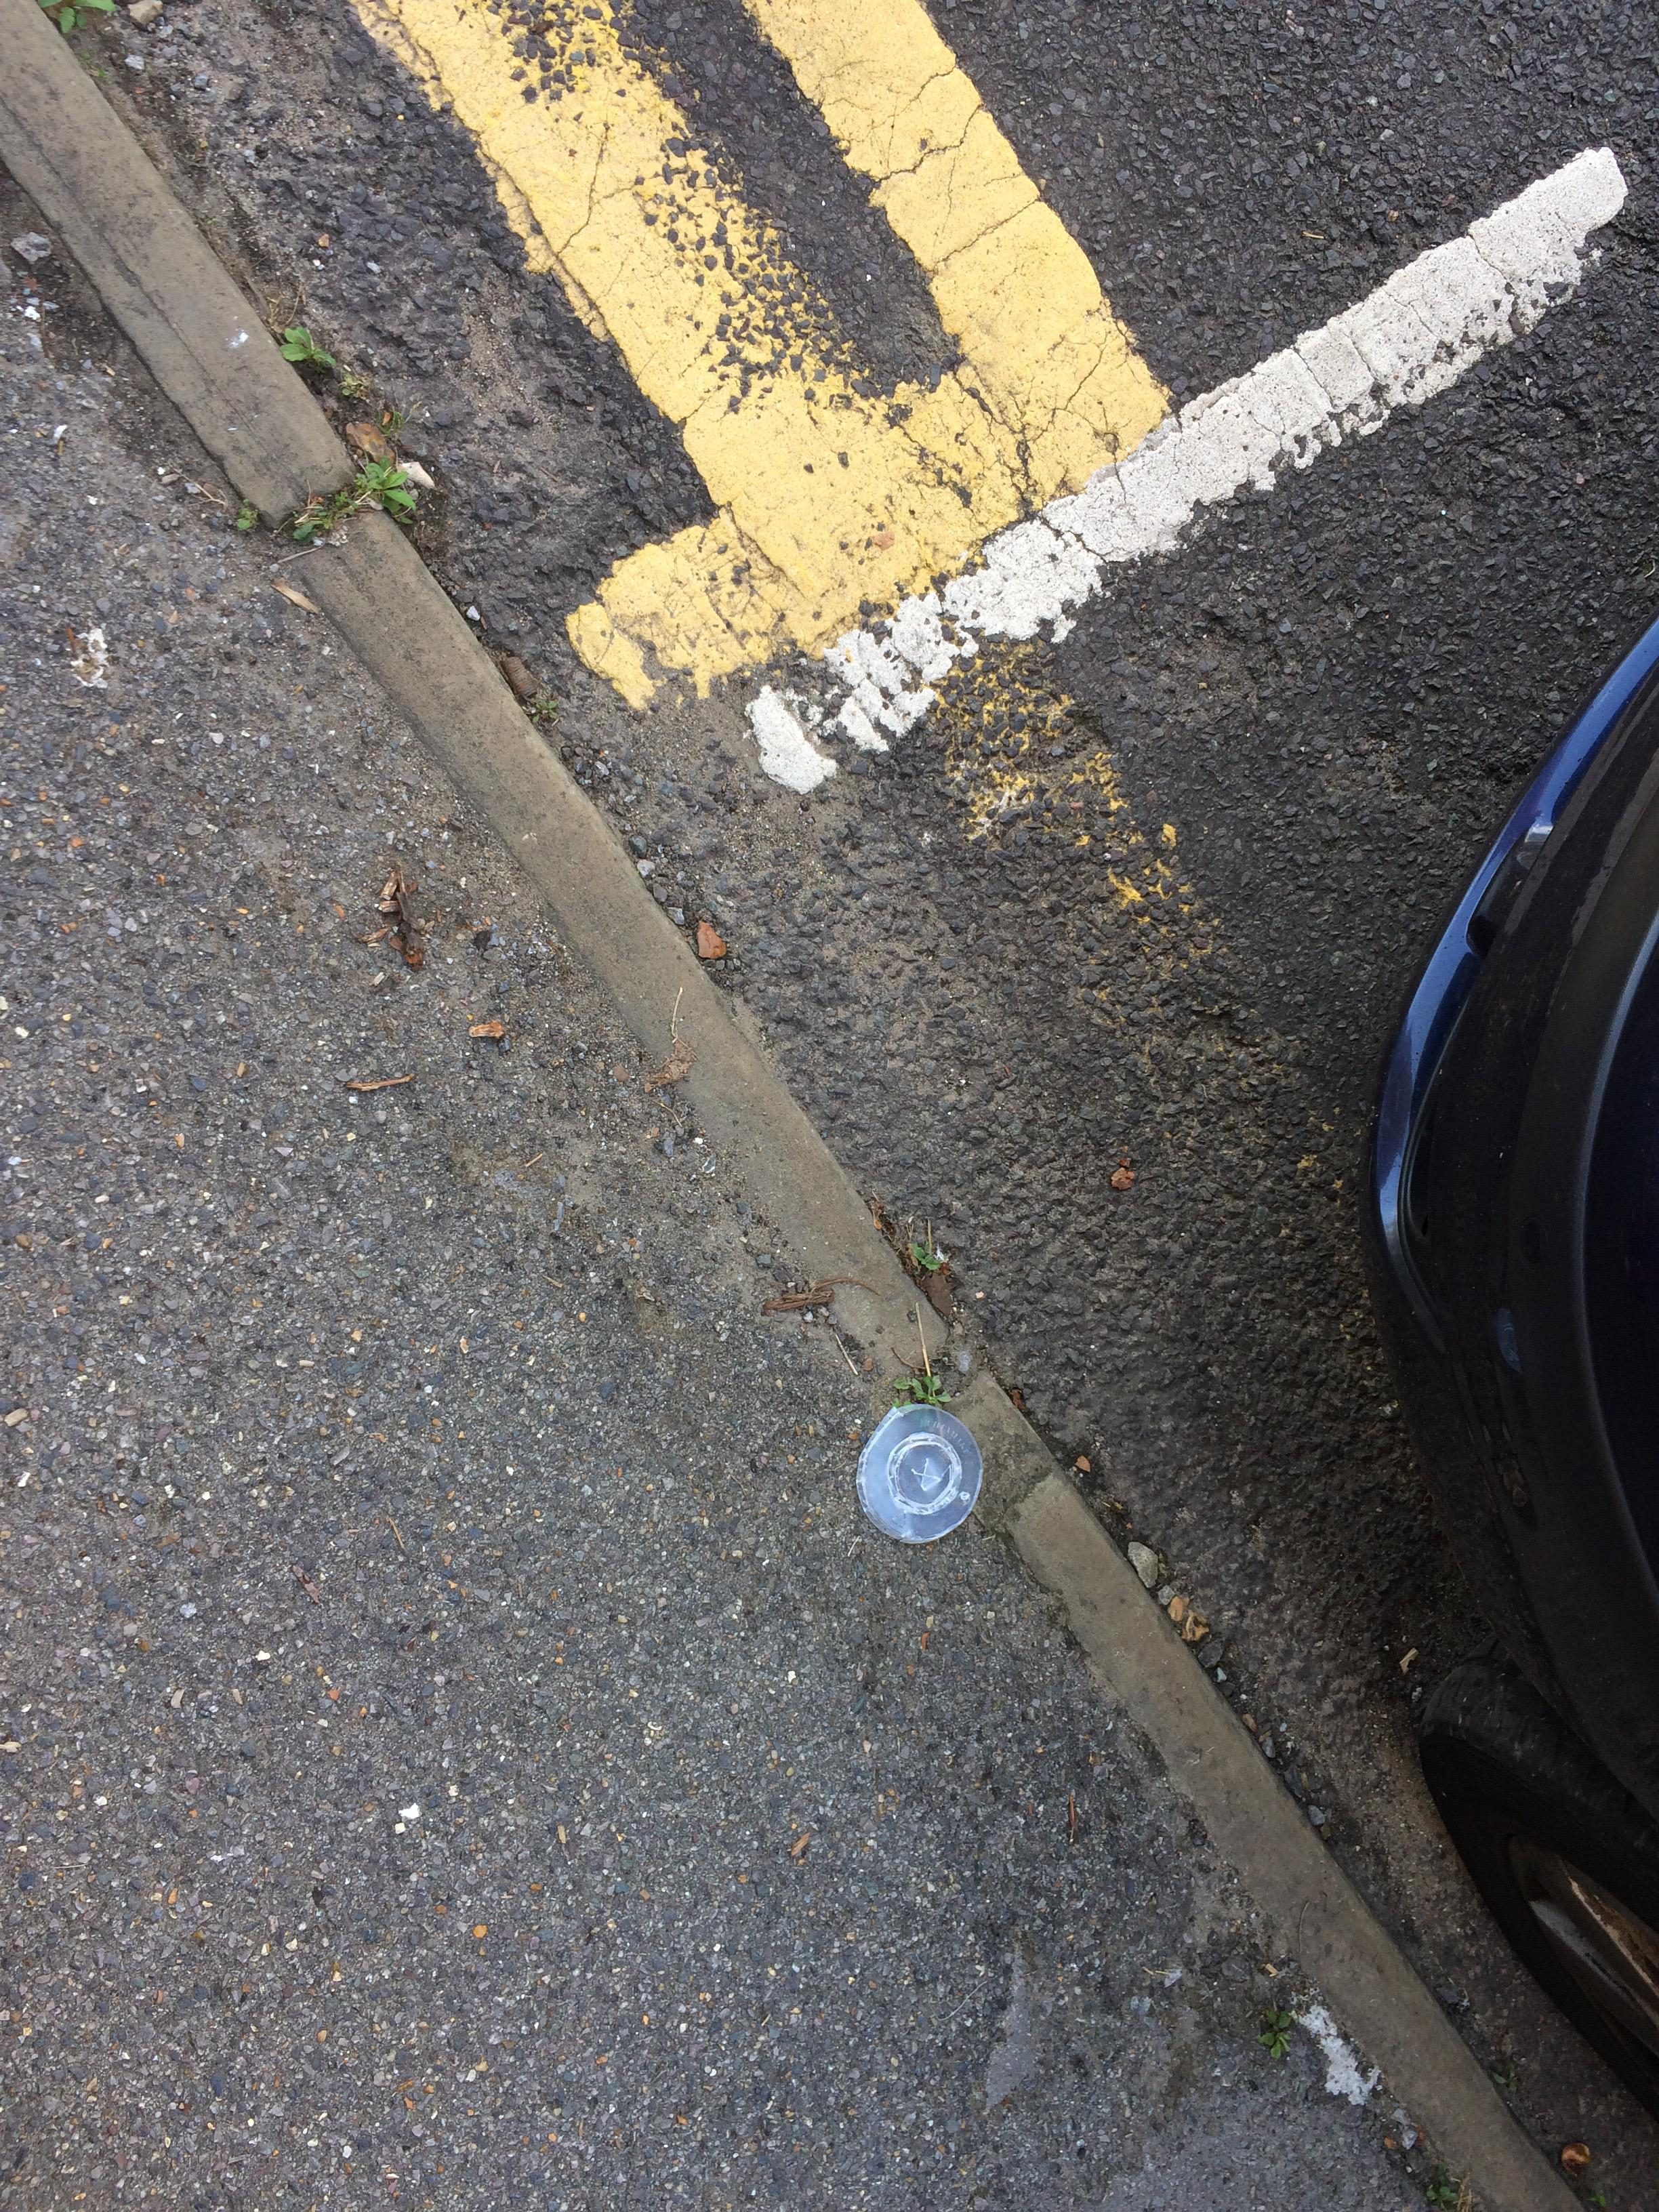Trash: (849, 1393, 988, 1547)
